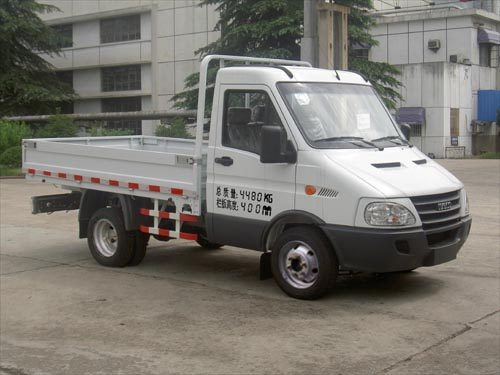smalltruck: (18, 38, 472, 301)
